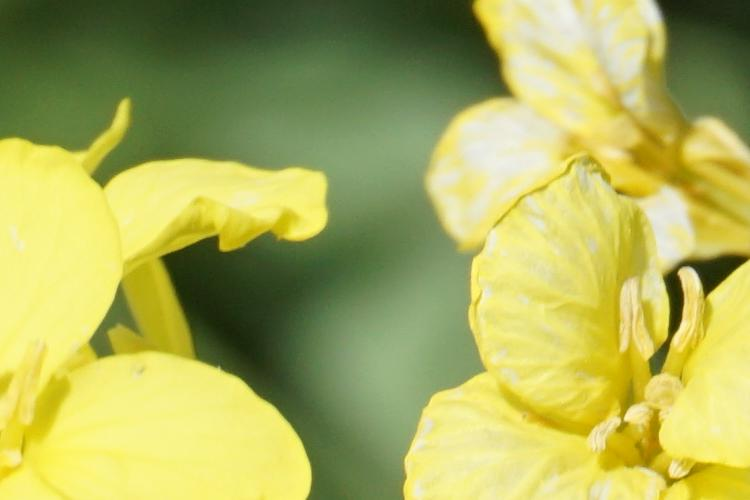yellow: (12, 141, 330, 500), (417, 182, 749, 499), (427, 6, 748, 239)
